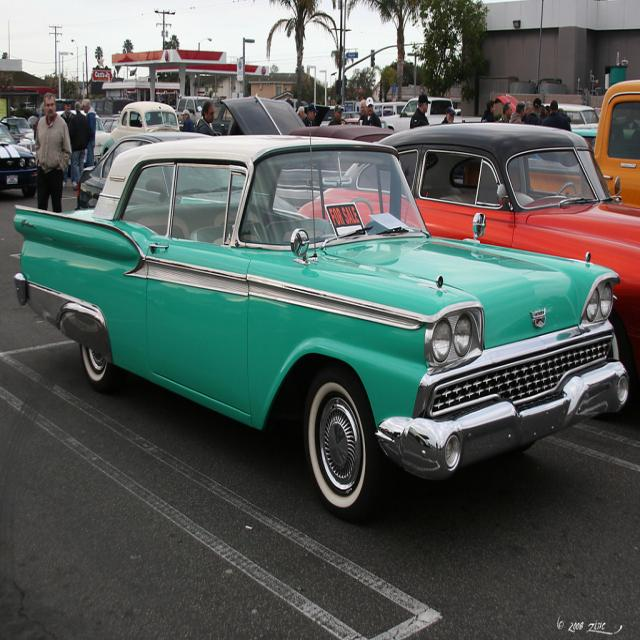car: (13, 135, 629, 524)
